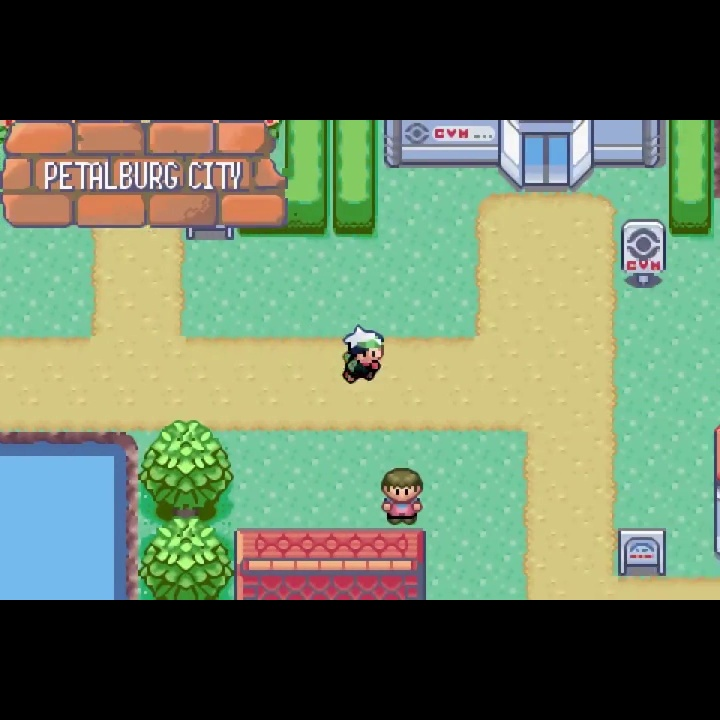gym: (379, 120, 665, 195)
npc: (335, 321, 386, 390), (380, 465, 427, 527)
